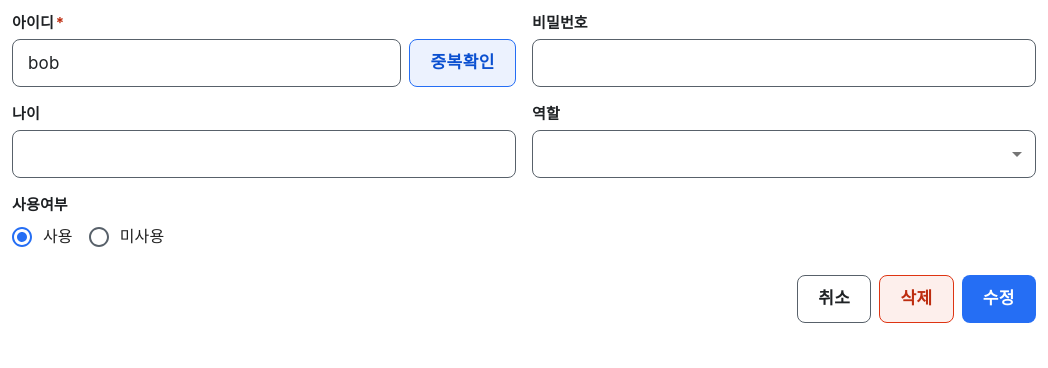
it: duplicate-check button › shows the button for valueCheckUrl fields, reports taken / available inline, excludes the edited row
This screenshot has width=1048, height=368.
Replace the text in the field labelled "아이디*" with "taken" at (207, 62), box [12,38,402,86]
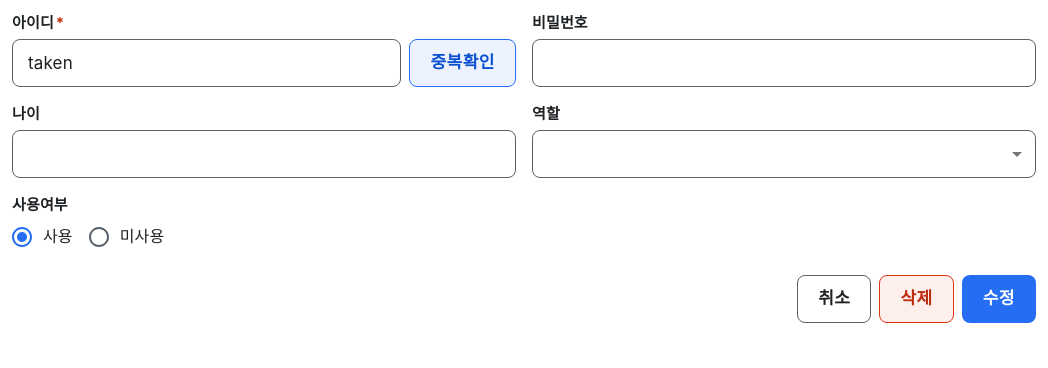
Click the button "중복확인" at (463, 63), box [410,39,516,87]
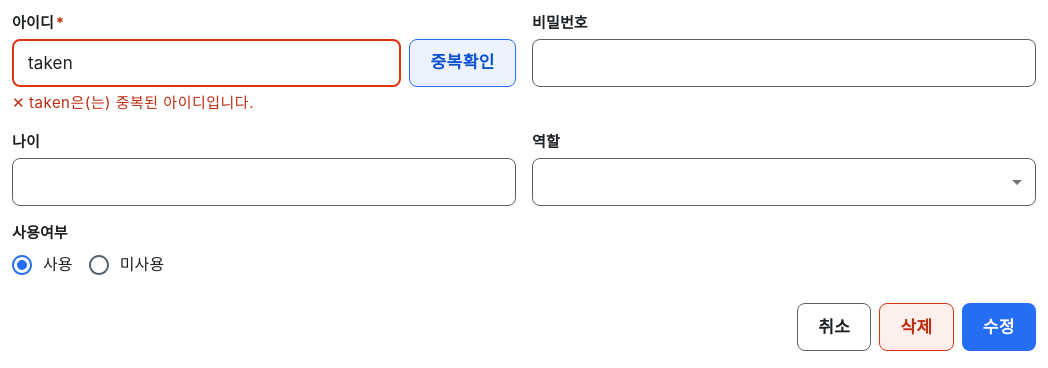
Expected: the text "taken은(는) 중복된 아이디입니다." is shown, [29,92,254,112]
Replace the text in the field labelled "아이디*" with "free" at (207, 62), box [12,38,402,86]
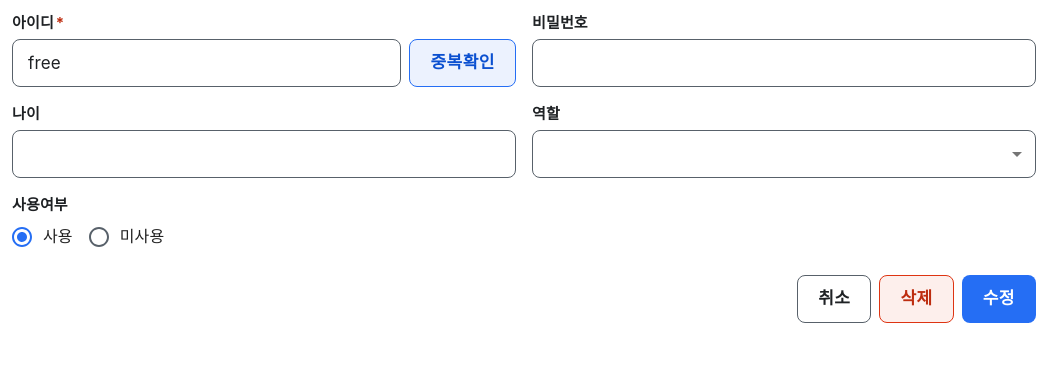
Click the button "중복확인" at (463, 63), box [410,39,516,87]
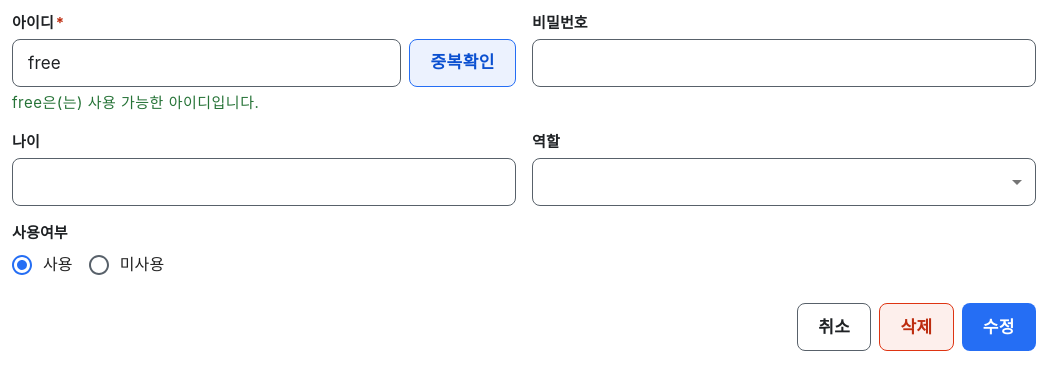
Expected: the text "free은(는) 사용 가능한 아이디입니다." is shown, [12,92,259,112]
